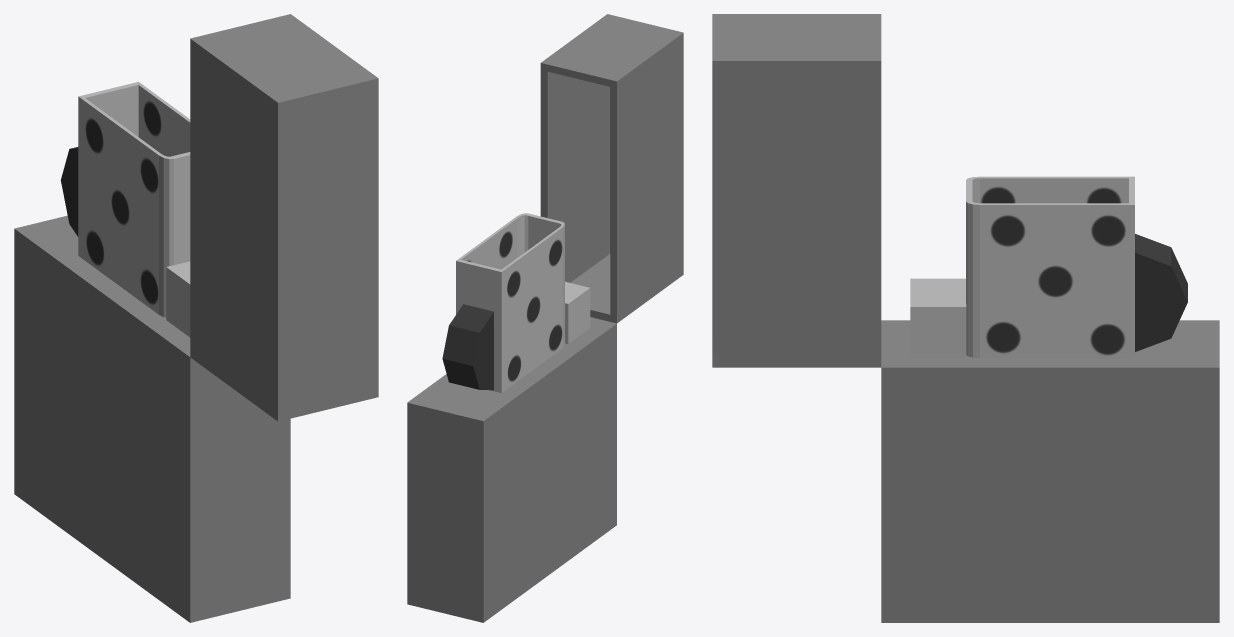
The model's file is Briquet.glb.
The picture shows the model from 3 angles, left to right: view 1: azimuth 30°, elevation 25°; view 2: azimuth 150°, elevation 25°; view 3: azimuth 270°, elevation 25°; orthographic projection. The views are drawn at different scales.
Visible parts, largest first — view 1: Briquet; view 2: Briquet; view 3: Briquet.
Part boxes in pixels (left/top/right/bottom): Briquet: left=14, top=14, right=378, bottom=622; Briquet: left=407, top=14, right=683, bottom=622; Briquet: left=712, top=14, right=1219, bottom=622.
Size of the model in its own units: 0.1306 by 0.7256 by 0.5937.
1 material, 1 textured.
